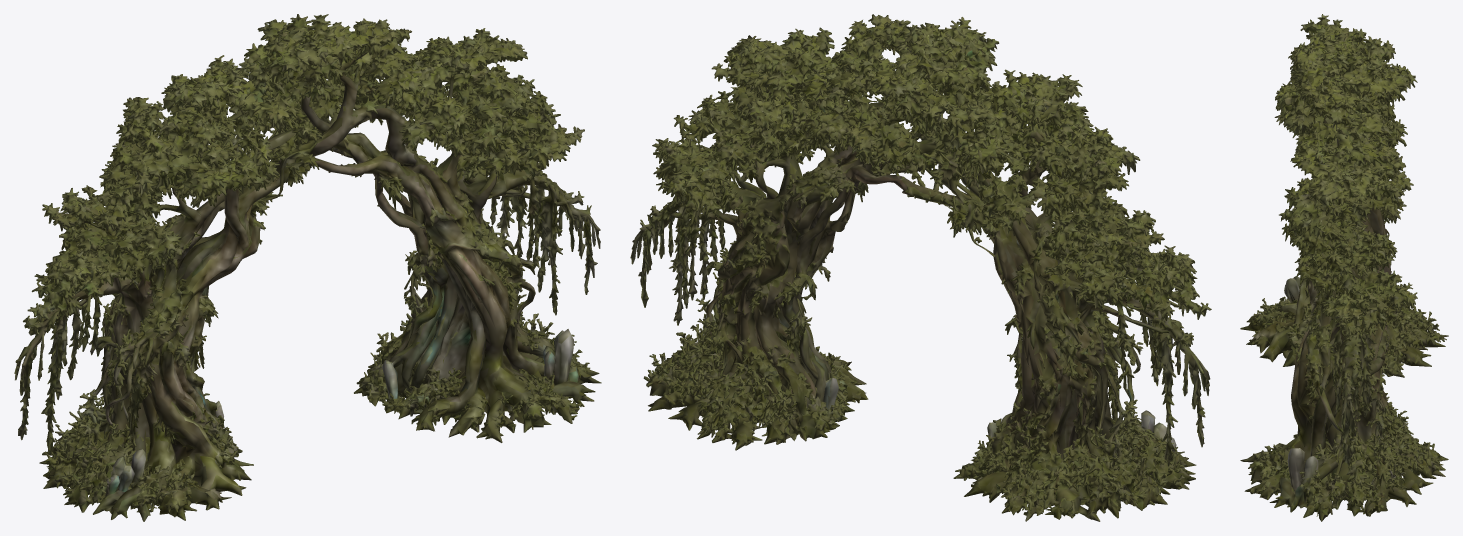
File: Meshy_AI_tree_arch_walkthrough_0823035351_image-to-3d-texture.glb
3 renders of one model, left to right at view 1: azimuth 30°, elevation 25°; view 2: azimuth 150°, elevation 25°; view 3: azimuth 270°, elevation 25°, orthographic. The views are drawn at different scales.
Parts seen in each view (by area): view 1: mesh_node; view 2: mesh_node; view 3: mesh_node.
Boxes of the visible parts, box(x1,y1,x2,y2) form: mesh_node: box(14, 14, 601, 521); mesh_node: box(630, 14, 1211, 521); mesh_node: box(1240, 14, 1448, 521).
Size of the model in its own units: 1.9 by 1.3 by 0.6891.
Materials: 1 (1 with a texture image).
